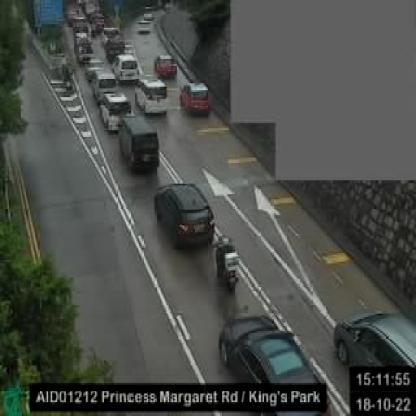Car: (218, 320, 332, 411), (333, 306, 416, 388), (155, 182, 215, 250), (116, 117, 163, 177), (96, 90, 130, 134), (136, 76, 170, 117), (180, 79, 212, 117), (90, 69, 120, 102), (115, 54, 141, 84), (154, 53, 179, 81), (138, 14, 154, 34)
Truck: (99, 26, 124, 56), (74, 29, 94, 64)
